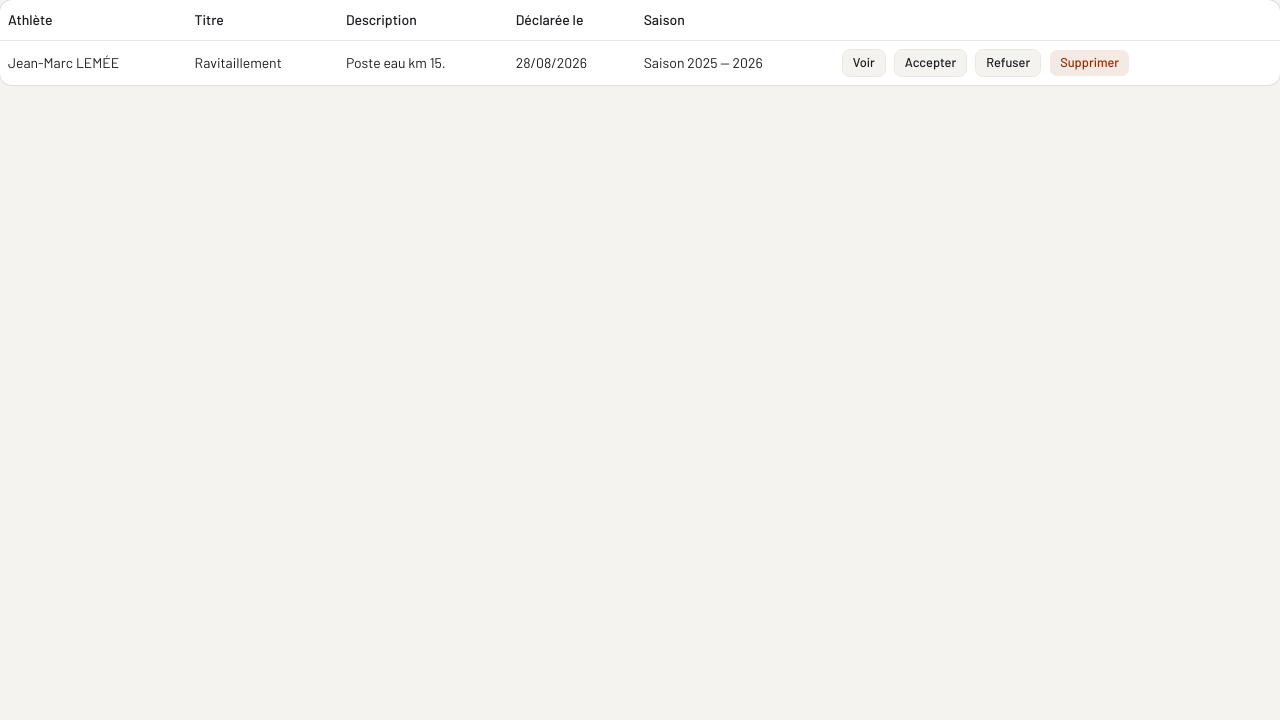
Test: AdminVolunteerActionsTable › désactive Accepter et Refuser pendant qu'une suppression est en cours
Click the button "Supprimer" at (1090, 62), box [1049,48,1130,76]
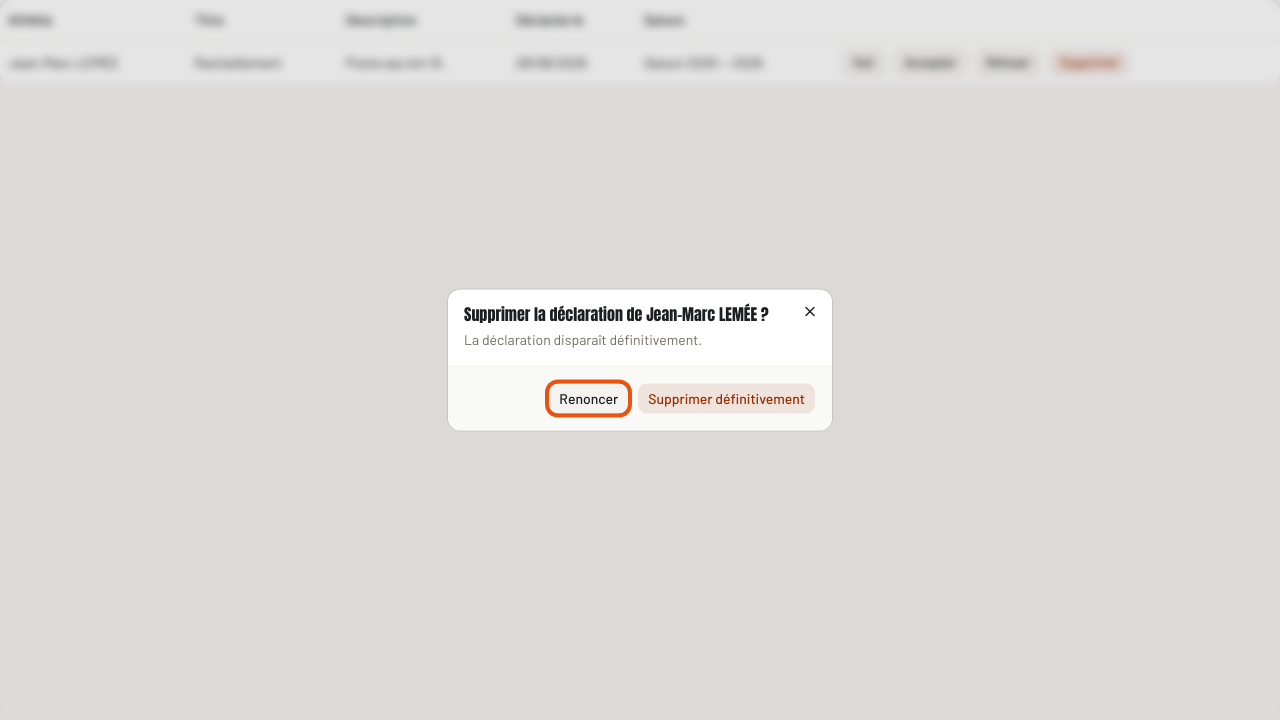
Click the button "Supprimer définitivement" at (727, 398), box [637,382,816,414]
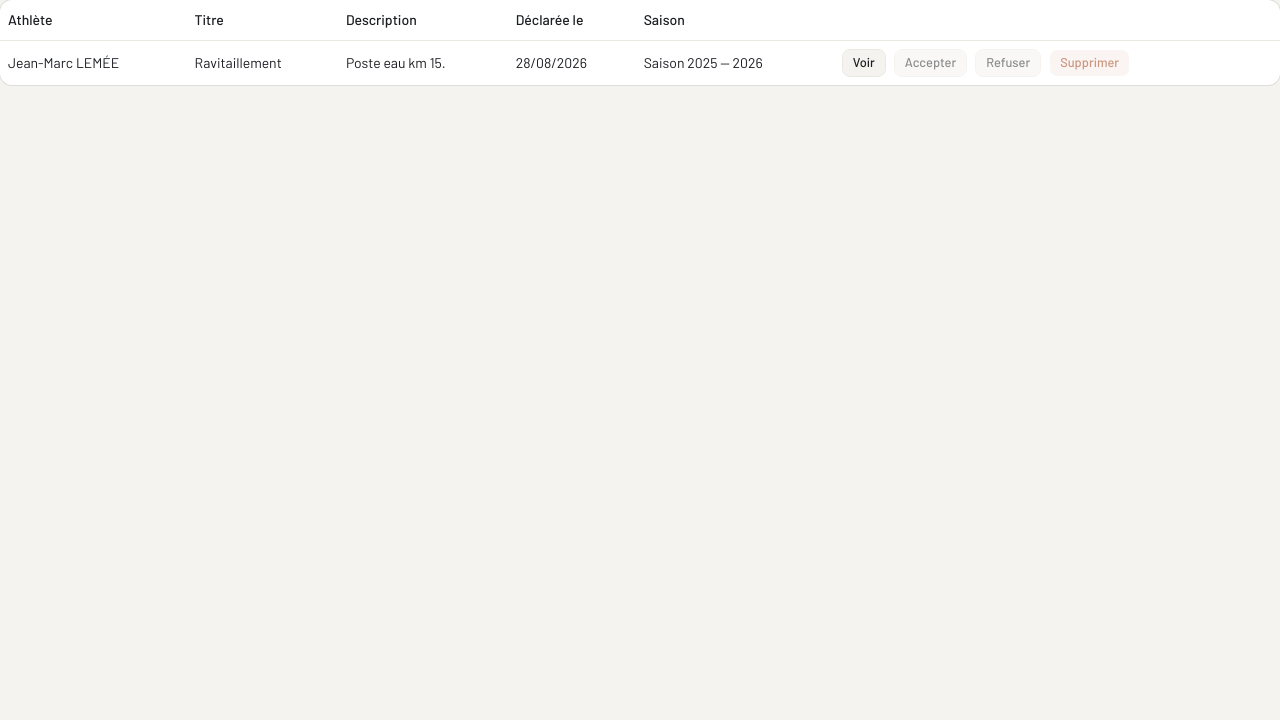
expect the button "Accepter" is disabled: met, box [894,48,967,76]
expect the button "Refuser" is disabled: met, box [975,48,1041,76]
